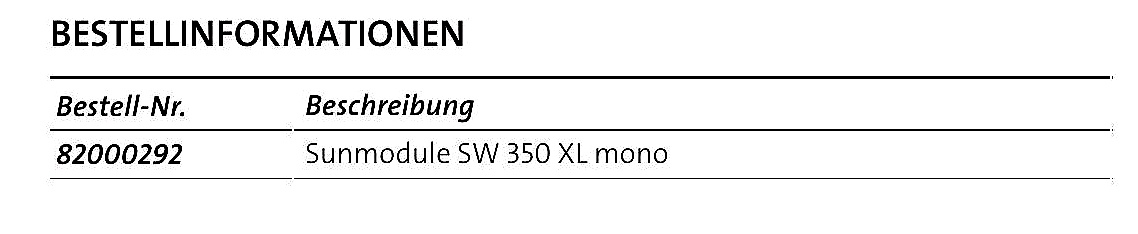table: (39, 66, 1126, 186)
table column: (301, 81, 1117, 175), (47, 82, 295, 173)
table name: (36, 10, 528, 61)
table row: (47, 83, 1117, 131), (46, 136, 1122, 176)
